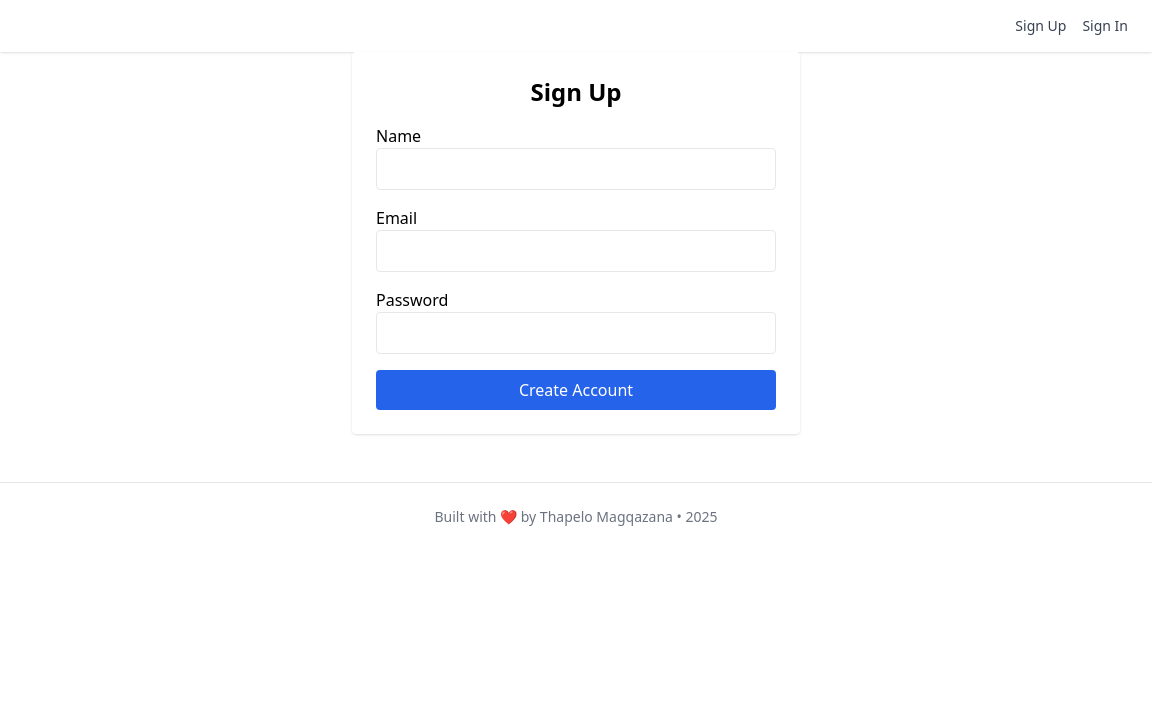
Scenario: User Sign Up – Negative Cases › fails with empty form submission
Click the submit button.
click(576, 390)  # box [376,370,776,410]
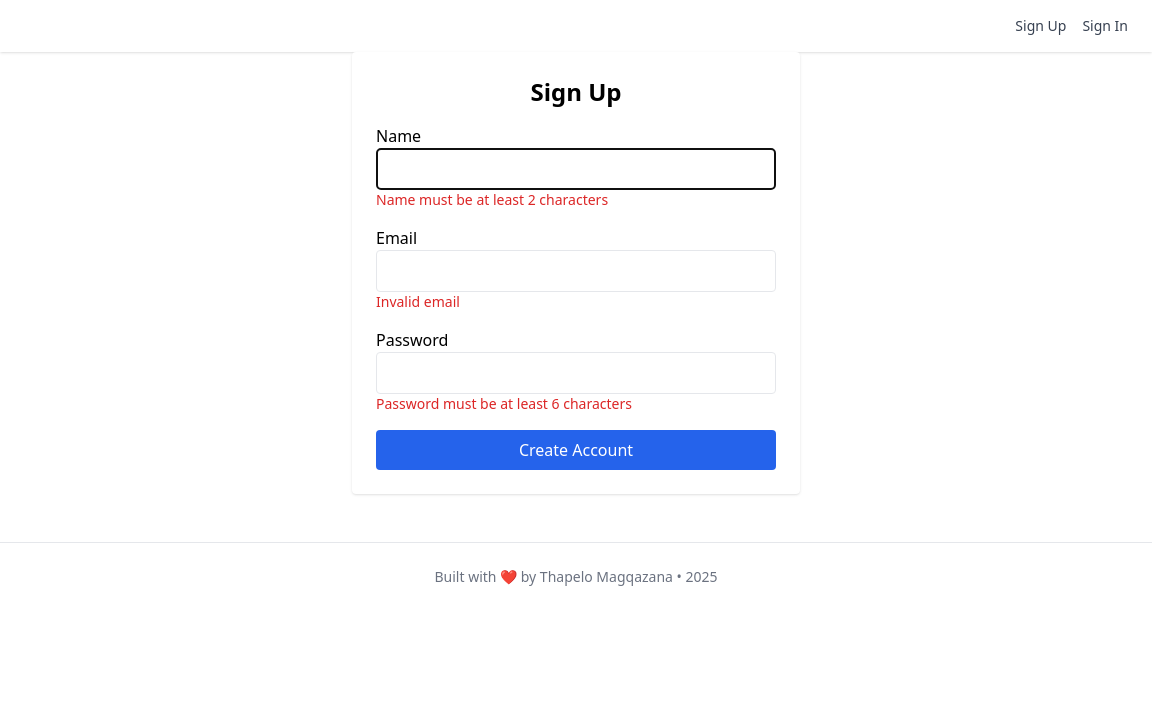
Expected: the text "Name must be at least 2 characters" is shown, [376,190,608,209]
Expected: the text "Invalid email" is shown, [376,292,460,311]
Expected: the text "Password must be at least 6 characters" is shown, [376,394,632,413]
